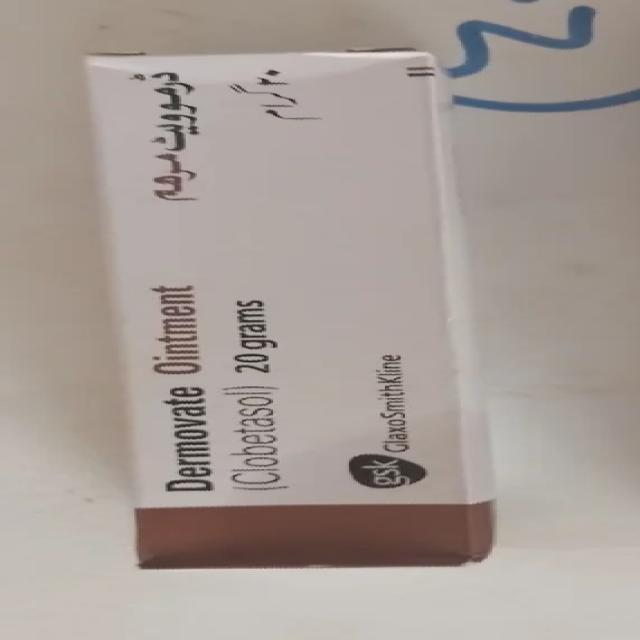drug-name: (132, 276, 218, 497)
